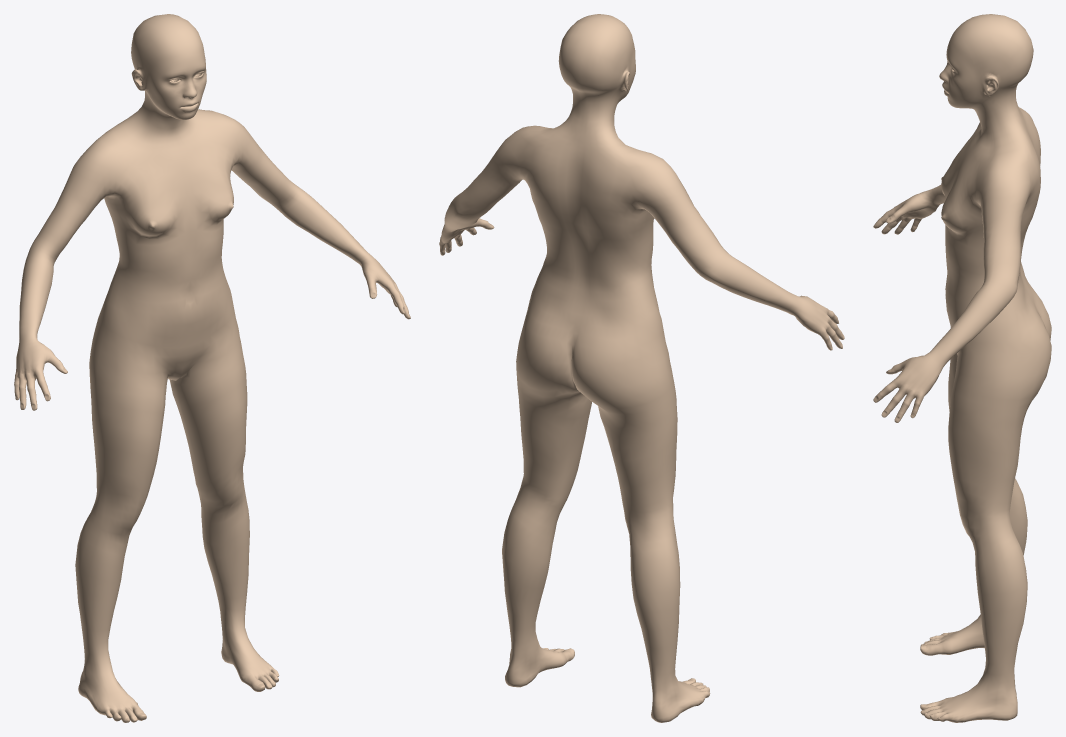
The model's file is female.glb.
3 views of the same model, side by side, from view 1: azimuth 30°, elevation 25°; view 2: azimuth 150°, elevation 25°; view 3: azimuth 270°, elevation 25° (orthographic). The views are drawn at different scales.
Visible parts, largest first — view 1: female; view 2: female; view 3: female.
Boxes of the visible parts, x1,y1,x2,y2 form: female: (14,14,410,722); female: (439,14,844,722); female: (873,14,1051,722).
Bounding box in the file's own units: 0.9191 × 1.5 × 0.3652.
